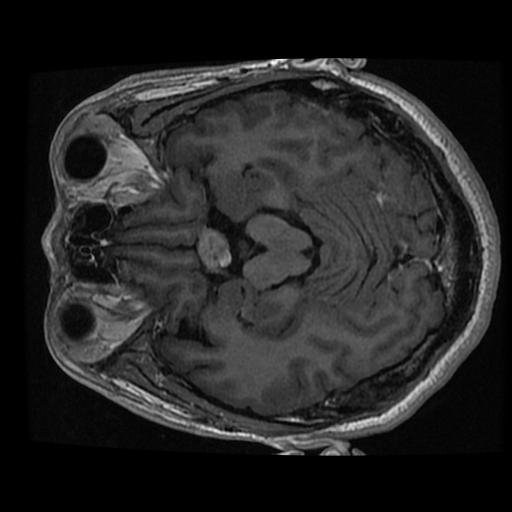pituitary tumour: (195, 226, 231, 272)
